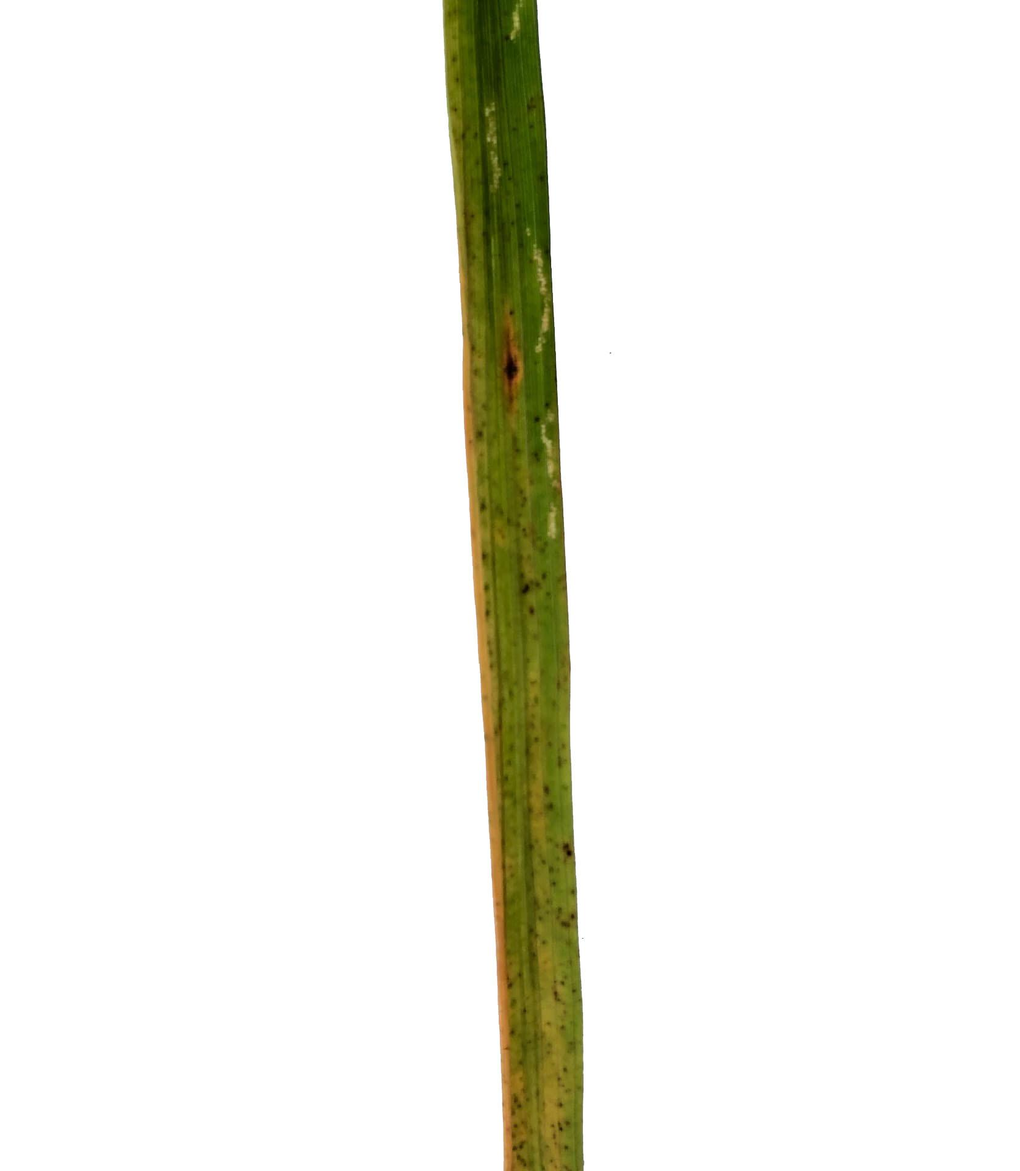Leaf Smut: (440, 0, 587, 1171)
